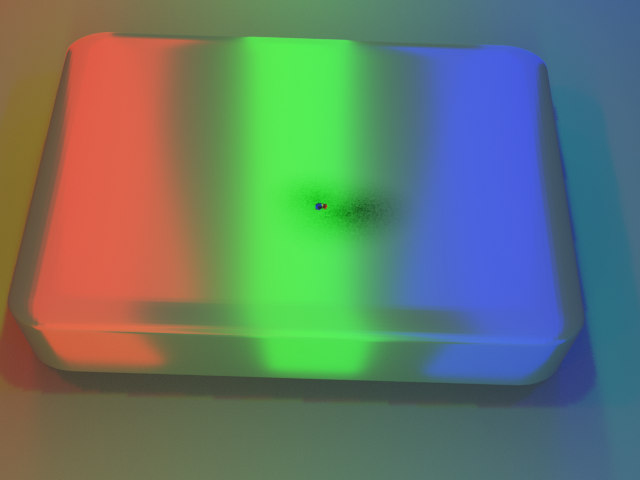dent: (302, 189, 336, 225)
stain: (228, 140, 451, 268)
